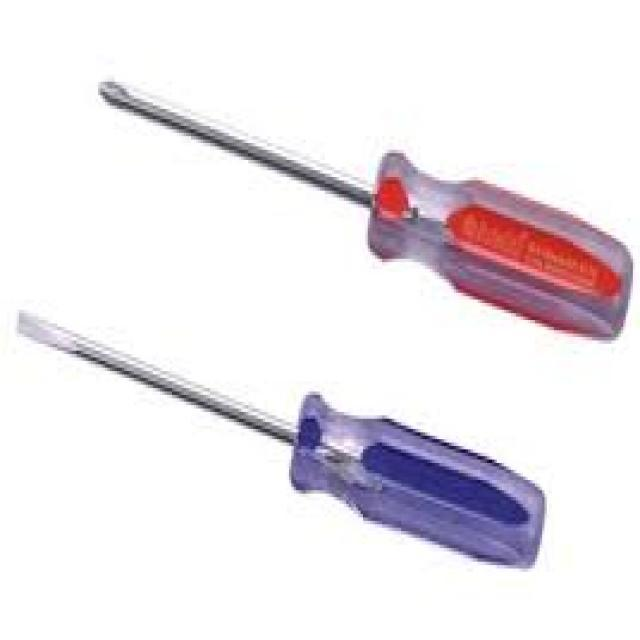screwdriver: (93, 71, 633, 344), (13, 308, 546, 570)
